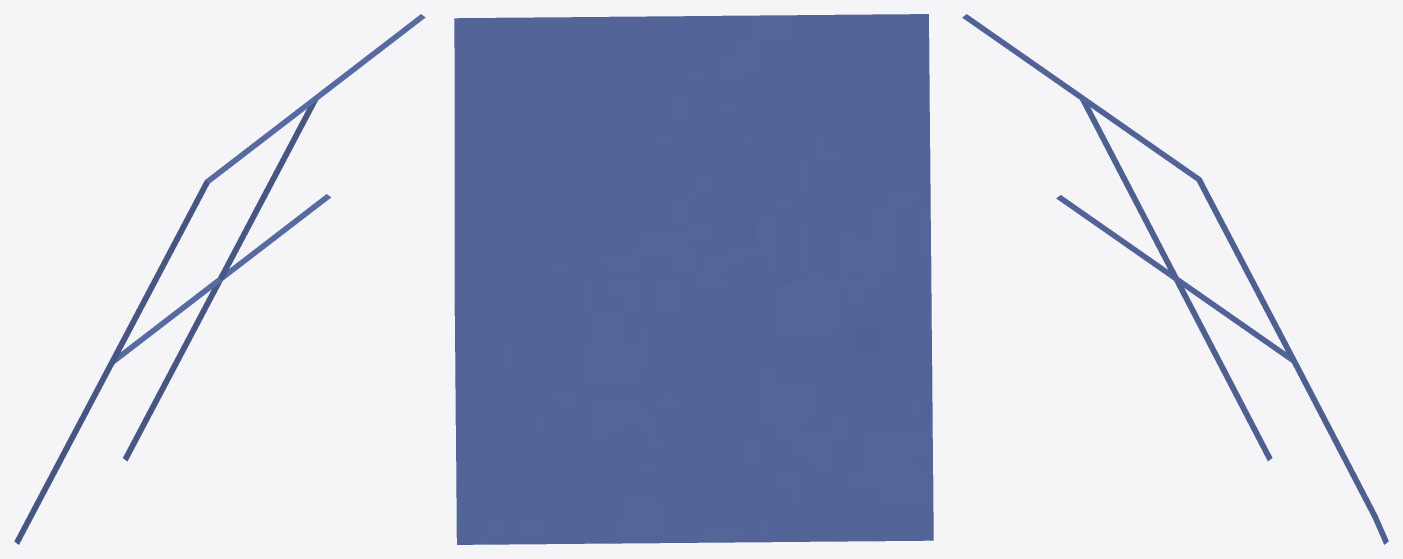
3 renders of one model, left to right at view 1: azimuth 30°, elevation 25°; view 2: azimuth 150°, elevation 25°; view 3: azimuth 270°, elevation 25°, orthographic. The views are drawn at different scales.
Bounding box in the file's own units: 19666 × 17772 × 16649.
Materials: 1 (1 with a texture image).
